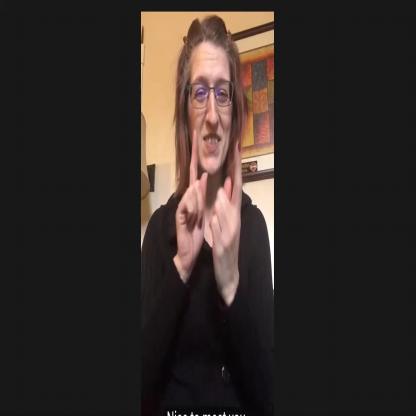NiceToMeetYou: (173, 128, 250, 313)
